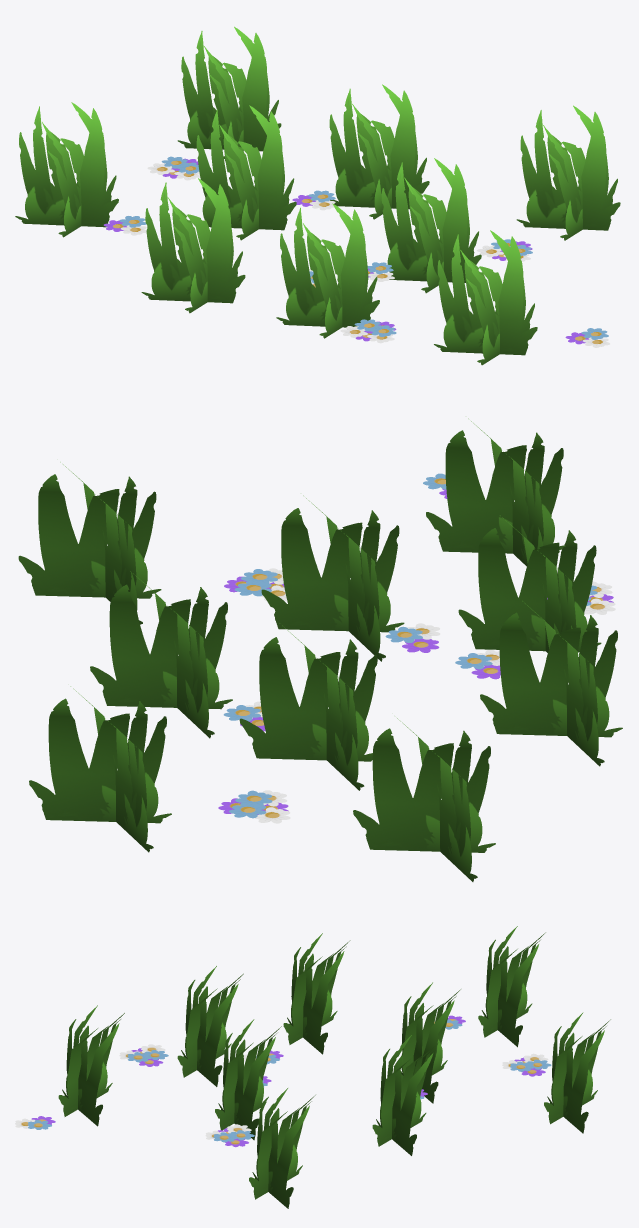
Rendered from GrassClump.fbx.
3 renders of one model, top to bottom at view 1: azimuth 30°, elevation 25°; view 2: azimuth 150°, elevation 25°; view 3: azimuth 270°, elevation 25°, orthographic. The views are drawn at different scales.
Parts seen in each view (by area): view 1: FPwers7; view 2: FPwers7; view 3: FPwers7.
Part boxes in pixels (<box>): FPwers7: <box>15,26,620,365</box>; FPwers7: <box>18,418,622,881</box>; FPwers7: <box>15,926,610,1208</box>.
Size of the model in its own units: 543 by 116 by 687.
